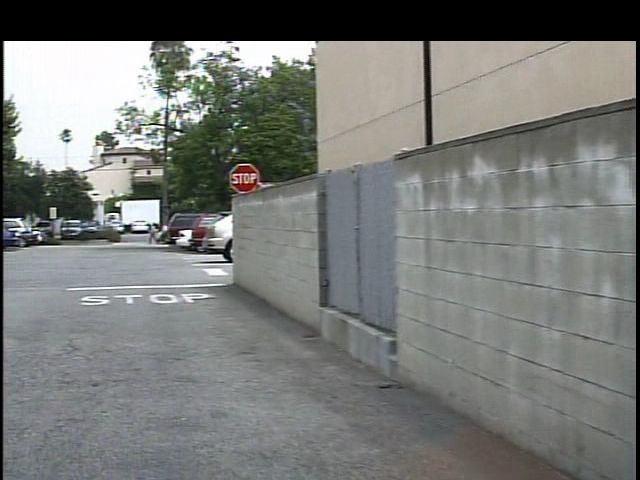person: (134, 221, 148, 248)
